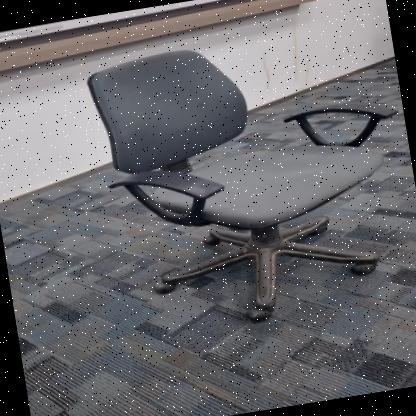chair: (77, 10, 416, 345)
